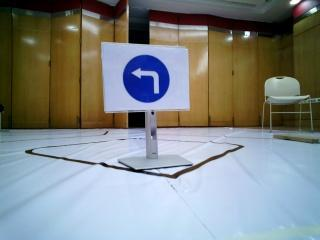left: (106, 47, 191, 111)
